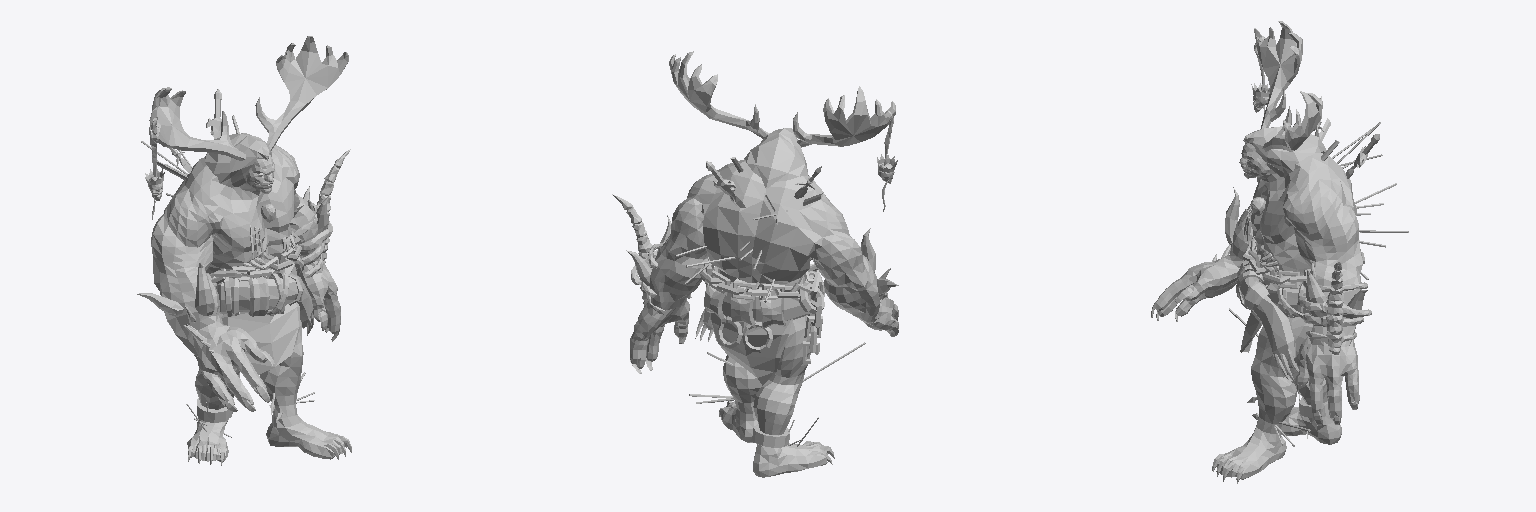
Rendered from walking_000003.obj.
3 renders of one model, left to right at view 1: azimuth 30°, elevation 25°; view 2: azimuth 150°, elevation 25°; view 3: azimuth 270°, elevation 25°, orthographic.
Visible parts, largest first — view 1: MAW; view 2: MAW; view 3: MAW.
Part boxes in pixels (x1,y1,x2,y2): MAW: (137,36,351,465); MAW: (612,51,898,477); MAW: (1151,21,1408,483).
Bounding box in the file's own units: 15.5 × 23.07 × 13.71.